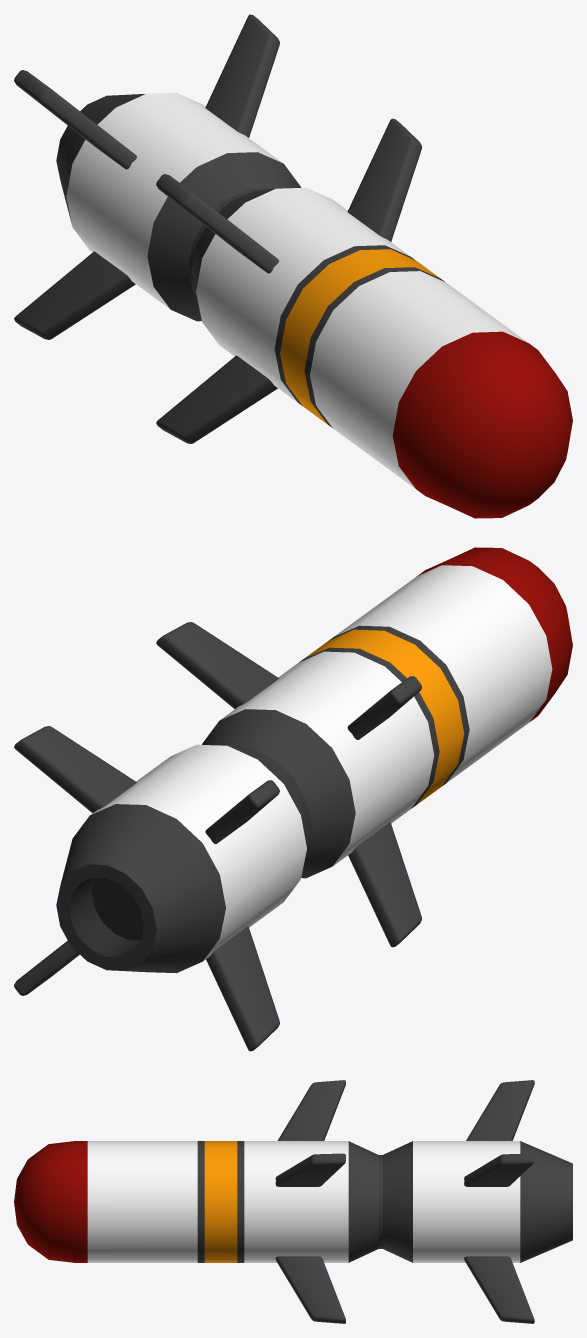
File: MISSILE.fbx
The picture shows the model from 3 angles, top to bottom: view 1: azimuth 30°, elevation 25°; view 2: azimuth 150°, elevation 25°; view 3: azimuth 270°, elevation 25°; orthographic projection. The views are drawn at different scales.
Visible parts, largest first — view 1: G10_Missile-Body_B; view 2: G10_Missile-Body_B; view 3: G10_Missile-Body_B.
Boxes of the visible parts, x1,y1,x2,y2 form: G10_Missile-Body_B: (14, 14, 572, 518); G10_Missile-Body_B: (14, 547, 572, 1051); G10_Missile-Body_B: (14, 1080, 572, 1323).
Size of the model in its own units: 131 by 131 by 389.
